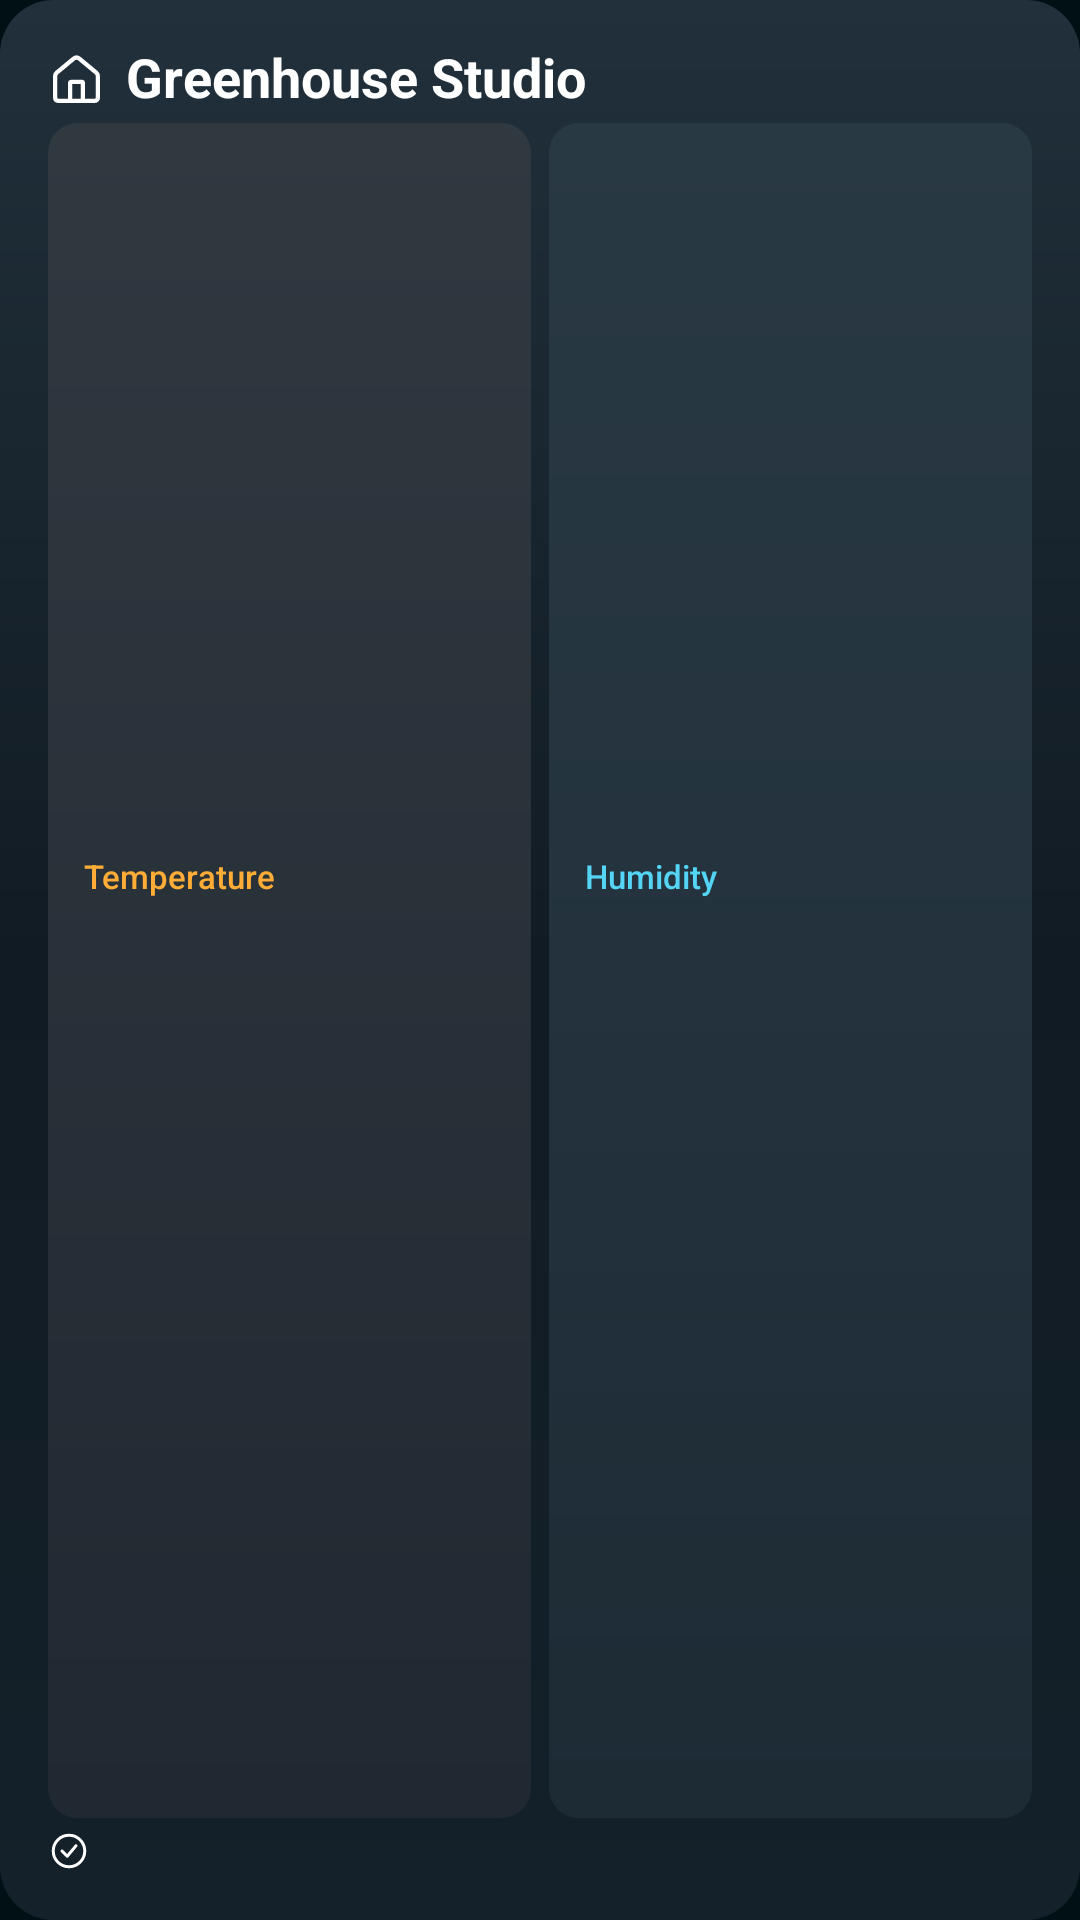

Named icons in this screenshot (1080px×1920px) and their bounding boxes, [x1=x1, y1=y1, x2=x2, y2=y2]:
climate check circle: [x1=51, y1=1833, x2=87, y2=1869]
widget house: [x1=53, y1=55, x2=100, y2=103]
